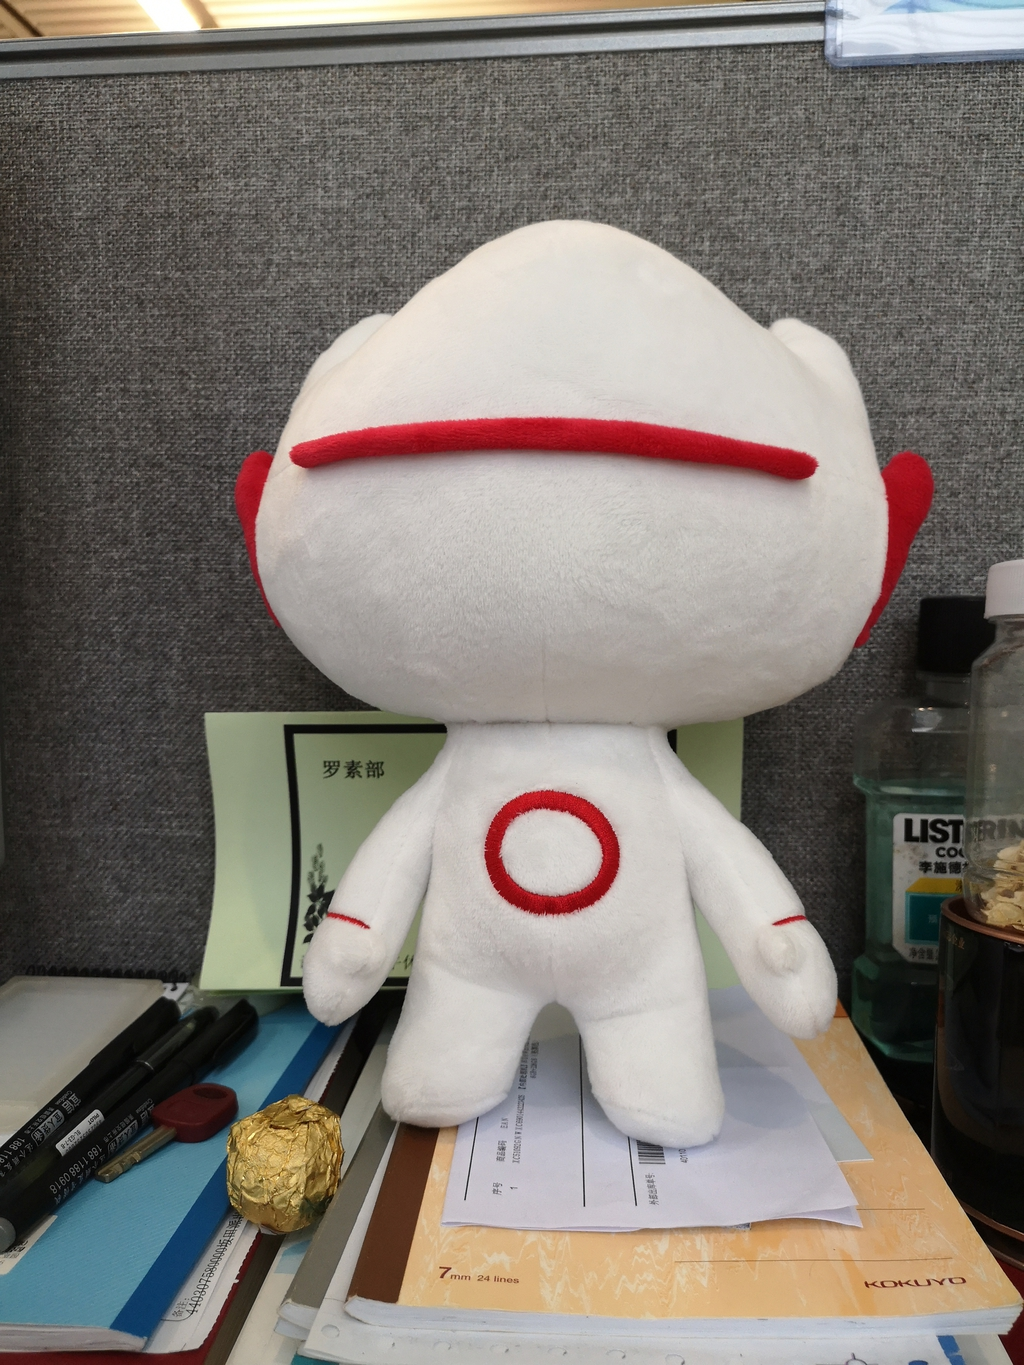yunbao: (159, 168, 964, 1202)
